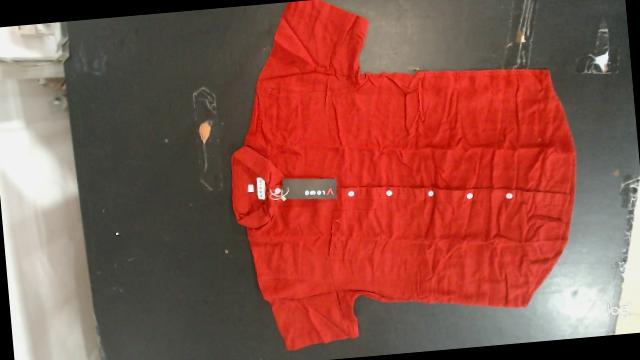new-garment: (231, 0, 575, 350)
